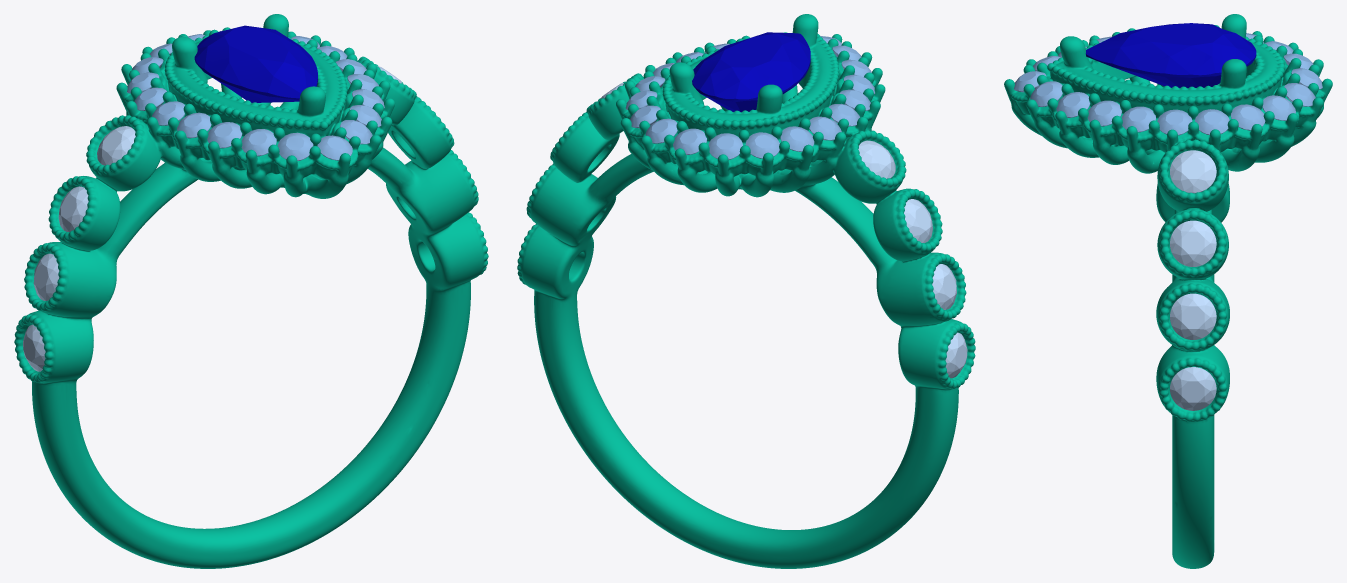
The picture shows the model from 3 angles, left to right: view 1: azimuth 30°, elevation 25°; view 2: azimuth 150°, elevation 25°; view 3: azimuth 270°, elevation 25°; orthographic projection. The views are drawn at different scales.
Parts seen in each view (by area): view 1: Pear Shape Halo Diamond Ring.3dm, Diamond_Pear, Diamond_Round (×4); view 2: Pear Shape Halo Diamond Ring.3dm, Diamond_Pear, Diamond_Round (×4); view 3: Pear Shape Halo Diamond Ring.3dm, Diamond_Pear, Diamond_Round (×4).
Part boxes in pixels (<box>): Pear Shape Halo Diamond Ring.3dm: <box>14,14,488,568</box>; Diamond_Pear: <box>194,25,317,102</box>; Diamond_Round (×4): <box>23,126,135,371</box>; Pear Shape Halo Diamond Ring.3dm: <box>517,14,975,568</box>; Diamond_Pear: <box>692,32,810,112</box>; Diamond_Round (×4): <box>858,140,967,378</box>; Pear Shape Halo Diamond Ring.3dm: <box>1004,14,1332,568</box>; Diamond_Pear: <box>1085,23,1256,88</box>; Diamond_Round (×4): <box>1170,150,1216,410</box>.
Size of the model in its own units: 2.45 by 2.73 by 1.59.
